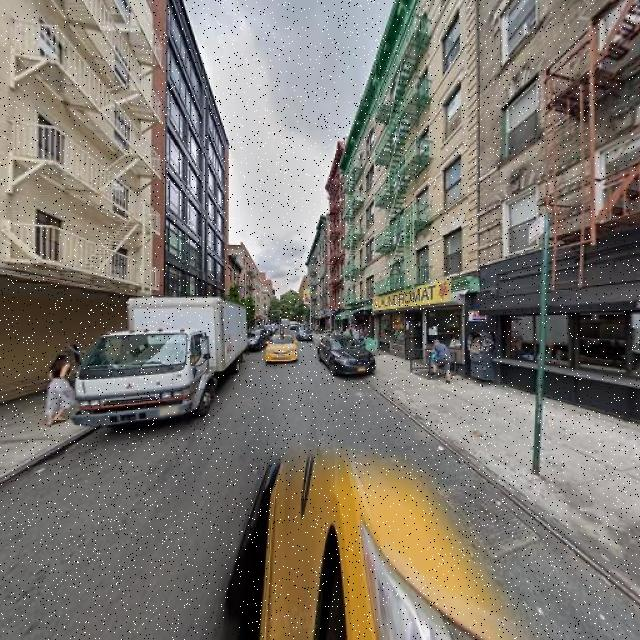Building: (484, 1, 640, 427), (1, 1, 147, 404), (343, 1, 479, 378), (152, 1, 228, 358)
